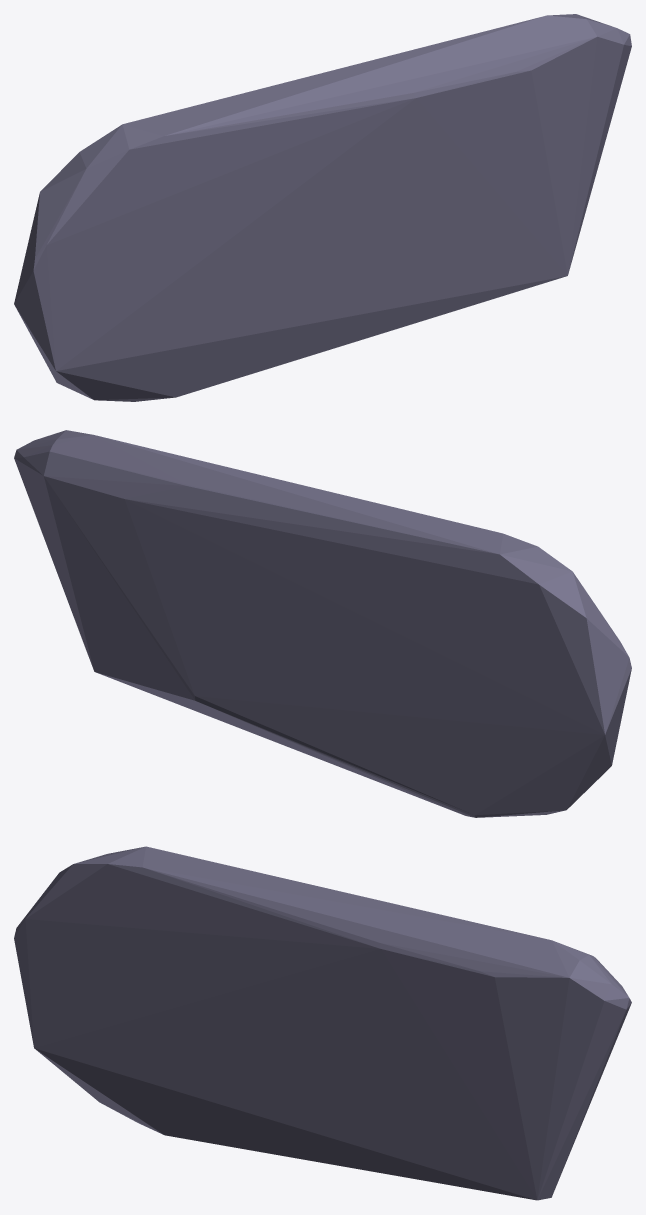
File: equipment_extensionCord_12v_b01.glb
The picture shows the model from 3 angles, top to bottom: view 1: azimuth 30°, elevation 25°; view 2: azimuth 150°, elevation 25°; view 3: azimuth 330°, elevation 25°; orthographic projection.
Visible parts, largest first — view 1: geometry_0; view 2: geometry_0; view 3: geometry_0.
Boxes of the visible parts, bbox=[...] form: geometry_0: bbox=[14, 14, 631, 401]; geometry_0: bbox=[14, 430, 631, 817]; geometry_0: bbox=[14, 846, 631, 1200].
Bounding box in the file's own units: 0.4738 × 0.2125 × 0.0501.
